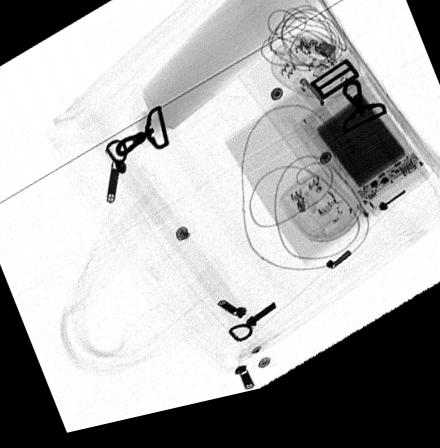Powerbank: (298, 94, 427, 227)
